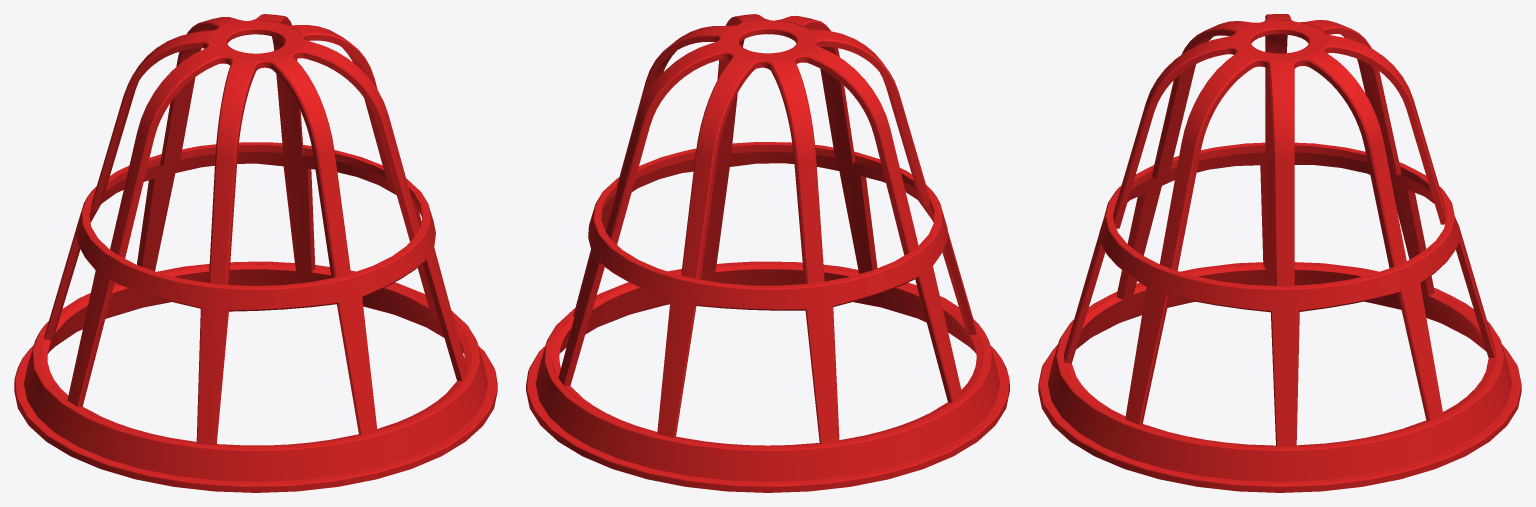
The model's file is CAGE.fbx.
The picture shows the model from 3 angles, left to right: view 1: azimuth 30°, elevation 25°; view 2: azimuth 150°, elevation 25°; view 3: azimuth 270°, elevation 25°; orthographic projection.
Visible parts, largest first — view 1: CAGE; view 2: CAGE; view 3: CAGE.
Part boxes in pixels (x1,y1,x2,y2): CAGE: (14, 14, 497, 492); CAGE: (526, 14, 1009, 492); CAGE: (1038, 14, 1521, 492).
Size of the model in its own units: 7.94 by 6.35 by 7.94.
